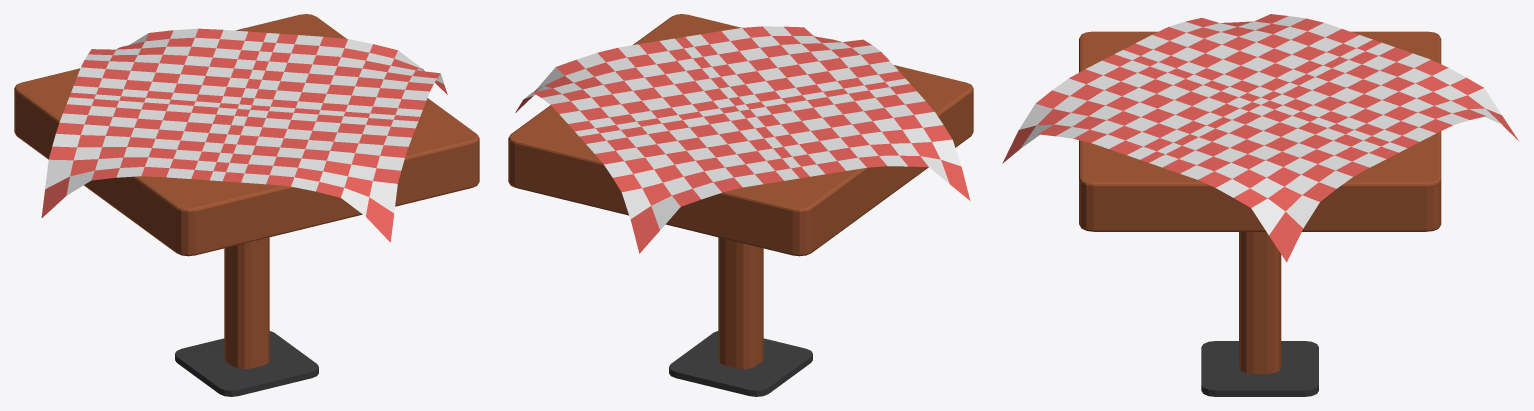
Rendered from italian_table.fbx.
3 renders of one model, left to right at view 1: azimuth 30°, elevation 25°; view 2: azimuth 150°, elevation 25°; view 3: azimuth 270°, elevation 25°, orthographic. The views are drawn at different scales.
Visible parts, largest first — view 1: table.002; view 2: table.002; view 3: table.002.
Part boxes in pixels (x1,y1,x2,y2): table.002: (14,14,479,396); table.002: (508,14,973,396); table.002: (1002,14,1519,396).
Size of the model in its own units: 68.51 by 39.41 by 68.51.
